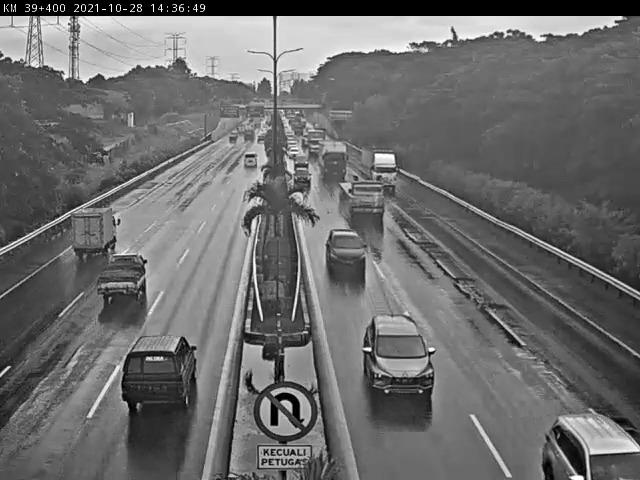big truck: (366, 146, 405, 182), (347, 186, 382, 217)
car: (550, 394, 627, 480), (367, 302, 422, 389), (110, 341, 193, 396), (326, 217, 366, 278), (238, 158, 255, 177), (297, 165, 312, 182)
small truck: (92, 246, 160, 313), (51, 213, 116, 273)
